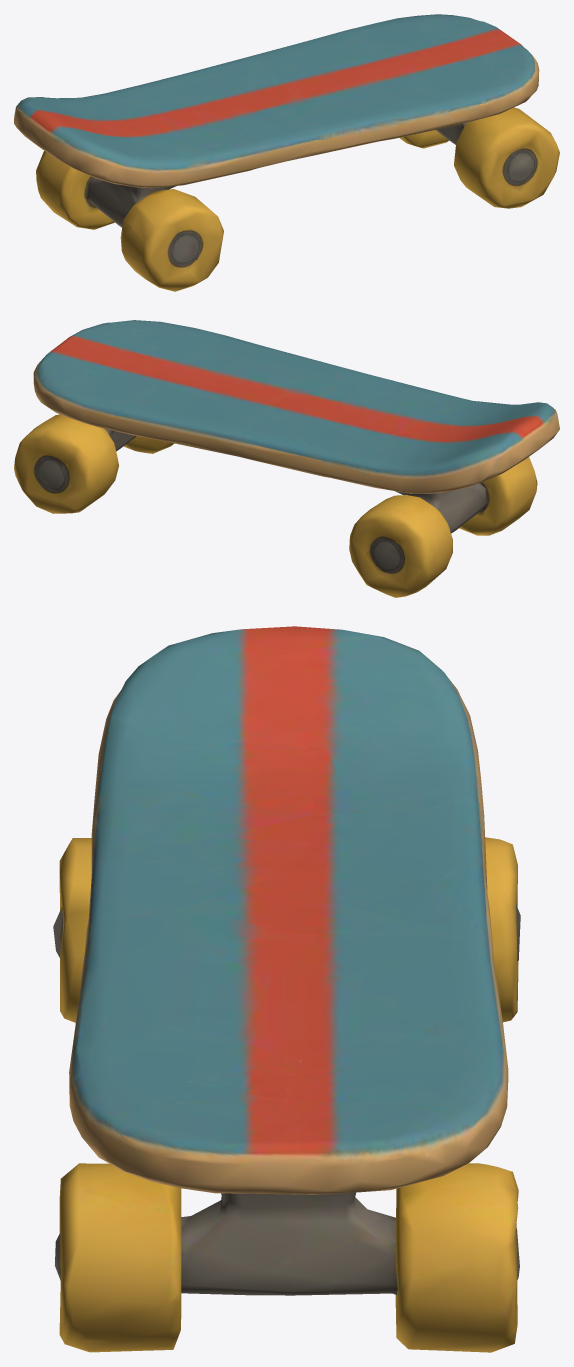
Rendered from toy-skateboard.glb.
3 views of the same model, one above another, from view 1: azimuth 30°, elevation 25°; view 2: azimuth 150°, elevation 25°; view 3: azimuth 270°, elevation 25° (orthographic). The views are drawn at different scales.
Parts seen in each view (by area): view 1: tripo_node_fe011dab-8072-4a5d-b88f-20f8c012f2b3; view 2: tripo_node_fe011dab-8072-4a5d-b88f-20f8c012f2b3; view 3: tripo_node_fe011dab-8072-4a5d-b88f-20f8c012f2b3.
Part boxes in pixels (x1,y1,x2,y2): tripo_node_fe011dab-8072-4a5d-b88f-20f8c012f2b3: [14, 14, 559, 291]; tripo_node_fe011dab-8072-4a5d-b88f-20f8c012f2b3: [14, 320, 559, 597]; tripo_node_fe011dab-8072-4a5d-b88f-20f8c012f2b3: [53, 626, 520, 1352].
Size of the model in its own units: 1 by 0.3045 by 0.4183.
Materials: 1 (1 with a texture image).
